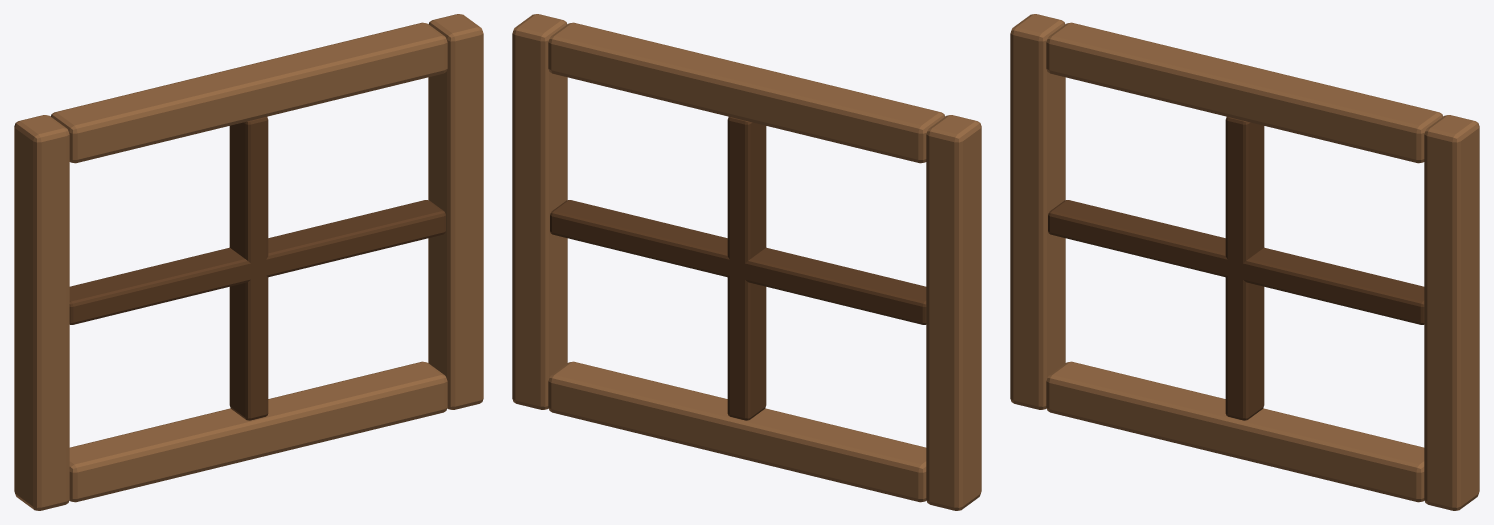
File: window_frame_1p5x1p2.glb
The picture shows the model from 3 angles, left to right: view 1: azimuth 30°, elevation 25°; view 2: azimuth 150°, elevation 25°; view 3: azimuth 330°, elevation 25°; orthographic projection.
Visible parts, largest first — view 1: window_left, window_top, window_bottom, window_right, window_transom, window_mullion; view 2: window_left, window_top, window_bottom, window_right, window_transom, window_mullion; view 3: window_right, window_top, window_bottom, window_left, window_transom, window_mullion.
Boxes of the visible parts, x1,y1,x2,y2 form: window_left: (14,115,69,510); window_top: (50,22,447,163); window_bottom: (69,361,447,502); window_right: (428,14,483,409); window_transom: (69,200,445,324); window_mullion: (229,117,268,420); window_left: (926,115,981,510); window_top: (548,22,945,163); window_bottom: (548,361,926,502); window_right: (512,14,567,409); window_transom: (550,200,926,324); window_mullion: (727,117,766,420); window_right: (1424,115,1479,510); window_top: (1046,22,1443,163); window_bottom: (1046,361,1424,502); window_left: (1010,14,1065,409); window_transom: (1048,200,1424,324); window_mullion: (1225,117,1264,420).
Bounding box in the file's own units: 1.5 × 1.2 × 0.14.
